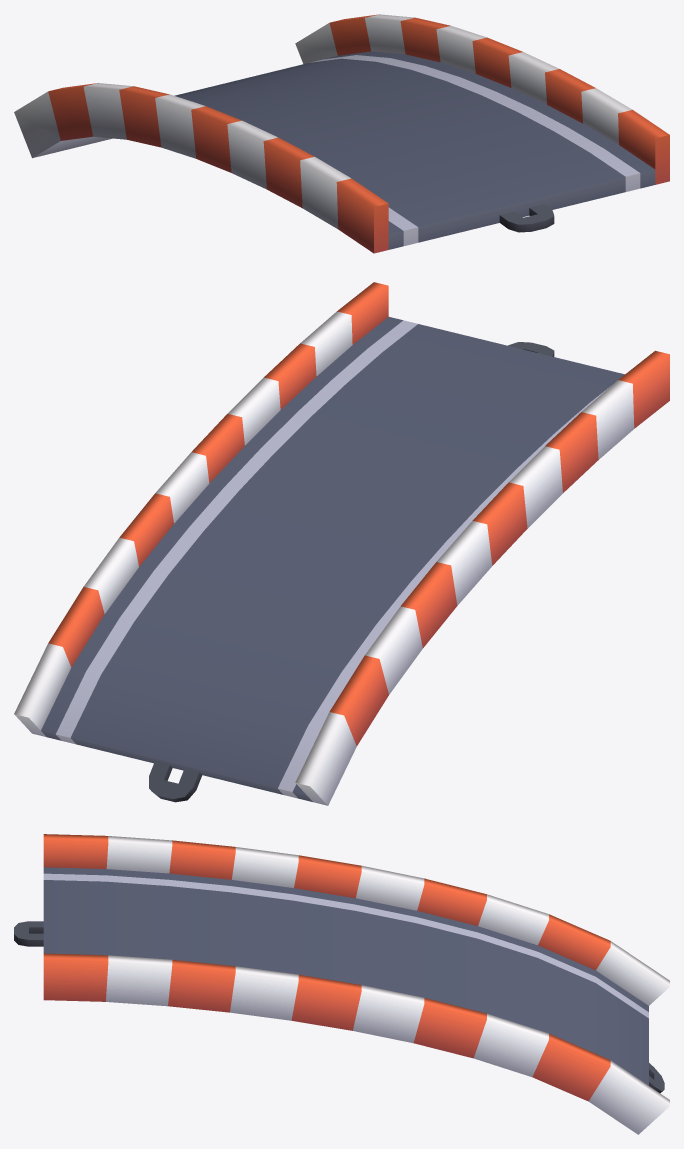
File: track-road-wide-straight-hill-end.glb
The picture shows the model from 3 angles, top to bottom: view 1: azimuth 30°, elevation 25°; view 2: azimuth 150°, elevation 25°; view 3: azimuth 270°, elevation 25°; orthographic projection. The views are drawn at different scales.
Parts seen in each view (by area): view 1: track-road-wide-straight-hill-end; view 2: track-road-wide-straight-hill-end; view 3: track-road-wide-straight-hill-end.
Boxes of the visible parts, x1,y1,x2,y2 form: track-road-wide-straight-hill-end: (14,14,669,253); track-road-wide-straight-hill-end: (14,282,669,805); track-road-wide-straight-hill-end: (14,834,669,1134).
Size of the model in its own units: 2 by 1.44 by 4.41.
1 material, 1 textured.
